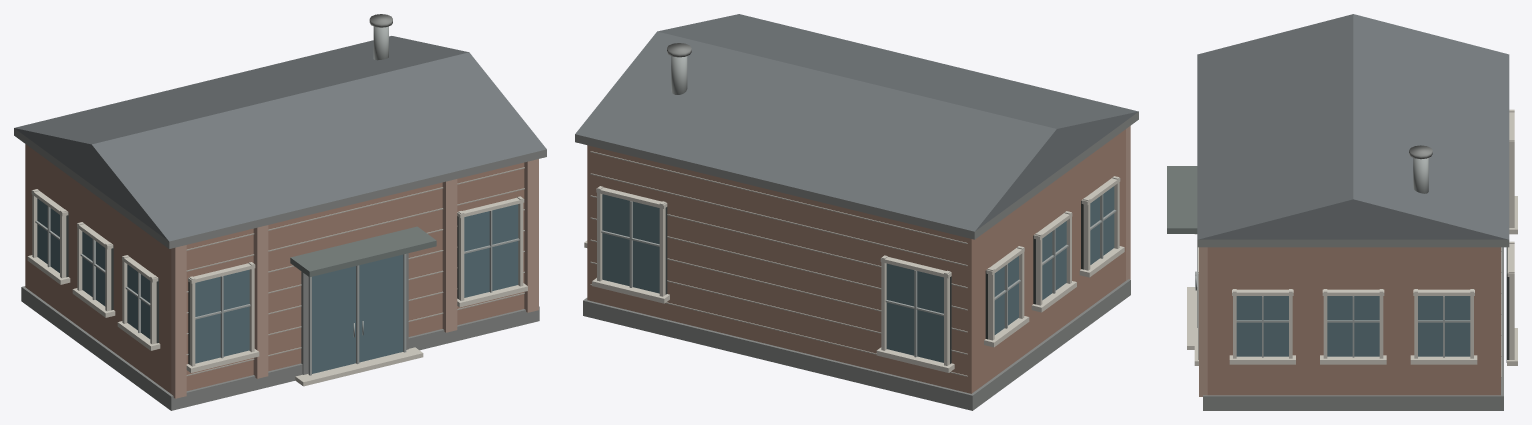
File: brick-utility.glb
3 renders of one model, left to right at view 1: azimuth 30°, elevation 25°; view 2: azimuth 150°, elevation 25°; view 3: azimuth 270°, elevation 25°, orthographic. The views are drawn at different scales.
Parts seen in each view (by area): view 1: brick-utility; view 2: brick-utility; view 3: brick-utility.
Boxes of the visible parts, bbox=[...] form: brick-utility: bbox=[14, 14, 546, 410]; brick-utility: bbox=[575, 14, 1138, 410]; brick-utility: bbox=[1167, 14, 1517, 410].
Bounding box in the file's own units: 10.66 × 6.18 × 8.32.
